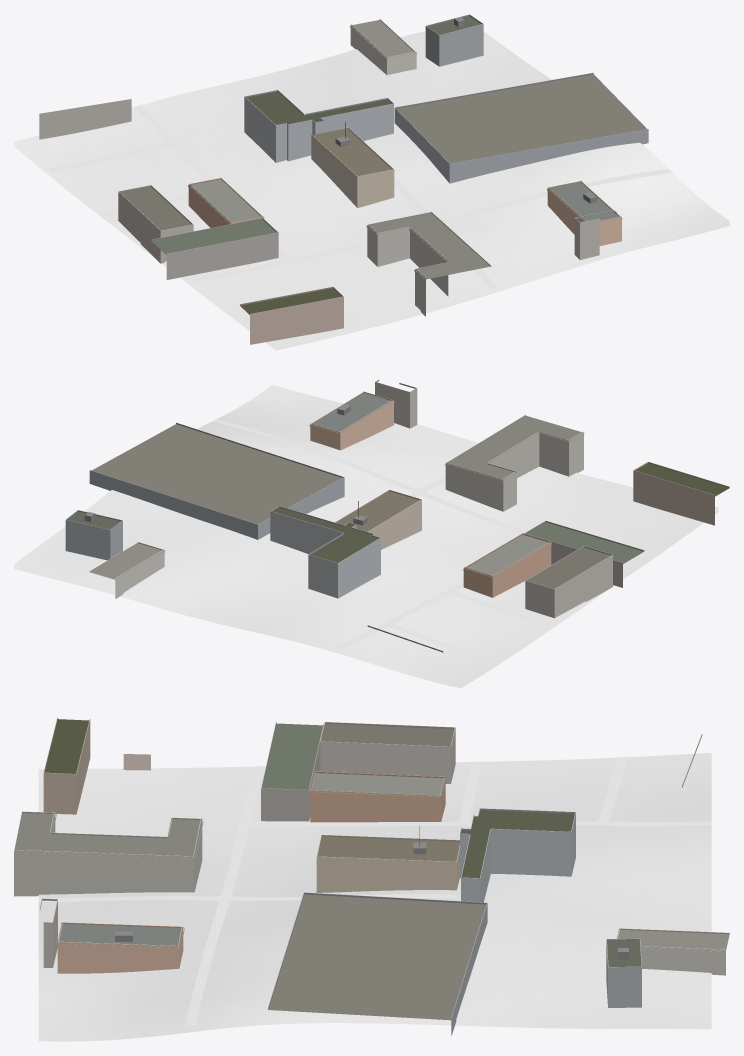
3 views of the same model, one above another, from view 1: azimuth 30°, elevation 25°; view 2: azimuth 150°, elevation 25°; view 3: azimuth 270°, elevation 25° (orthographic). The views are drawn at different scales.
Visible parts, largest first — view 1: t0_-10_-13; view 2: t0_-10_-13; view 3: t0_-10_-13.
Part boxes in pixels (<box>): t0_-10_-13: <box>14,14,729,350</box>; t0_-10_-13: <box>14,379,729,688</box>; t0_-10_-13: <box>14,717,729,1041</box>.
Bounding box in the file's own units: 280 × 36.45 × 272.
